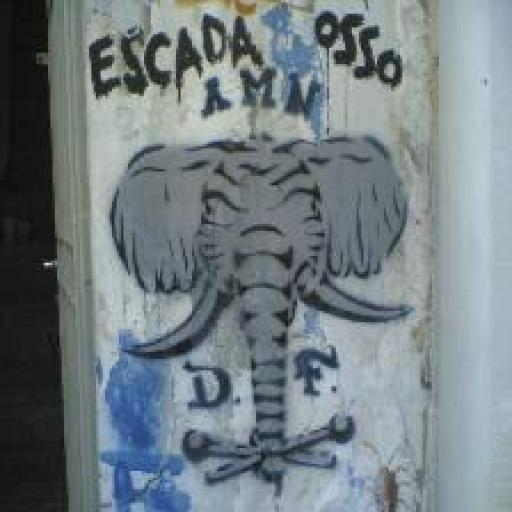Elephant: (105, 132, 412, 508)
